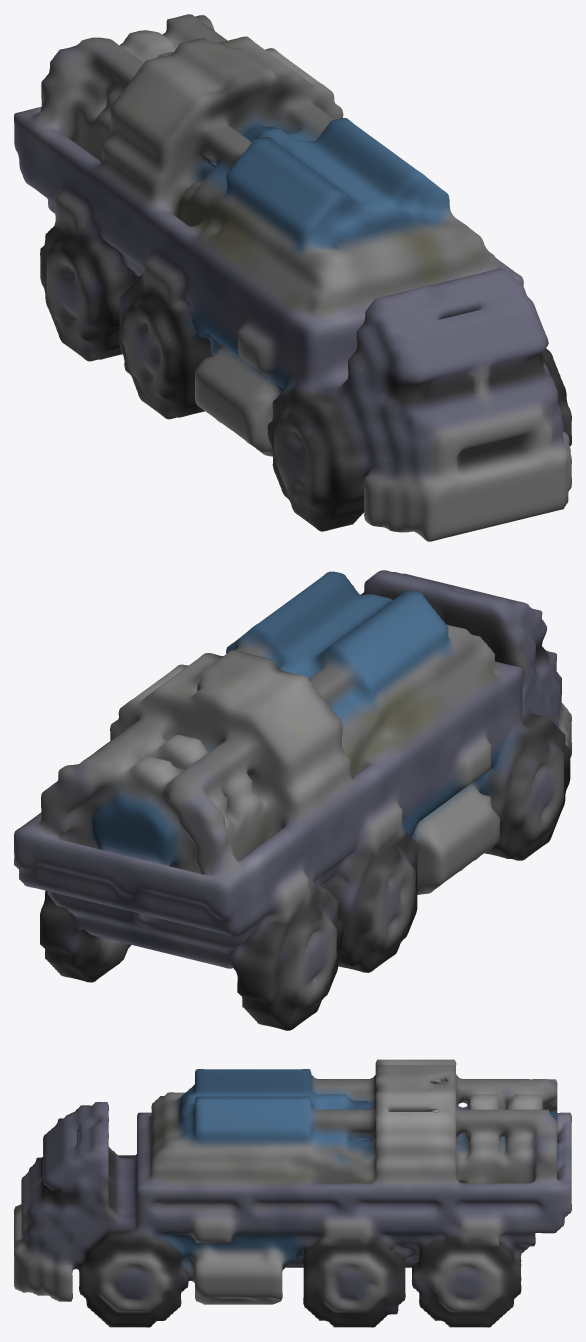
The model's file is amcv.glb.
3 renders of one model, top to bottom at view 1: azimuth 30°, elevation 25°; view 2: azimuth 150°, elevation 25°; view 3: azimuth 270°, elevation 25°, orthographic. The views are drawn at different scales.
Visible parts, largest first — view 1: amcv; view 2: amcv; view 3: amcv.
Boxes of the visible parts, x1,y1,x2,y2 form: amcv: (14, 14, 571, 541); amcv: (14, 570, 571, 1030); amcv: (14, 1059, 571, 1327).
Bounding box in the file's own units: 2.42 × 2.73 × 6.39.
